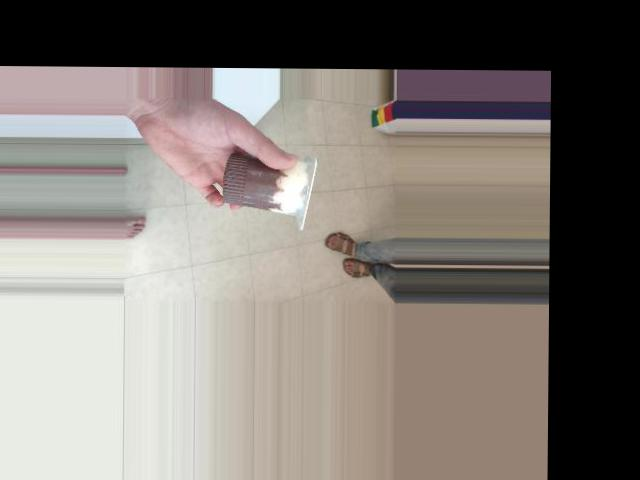milky: (196, 151, 314, 215)
